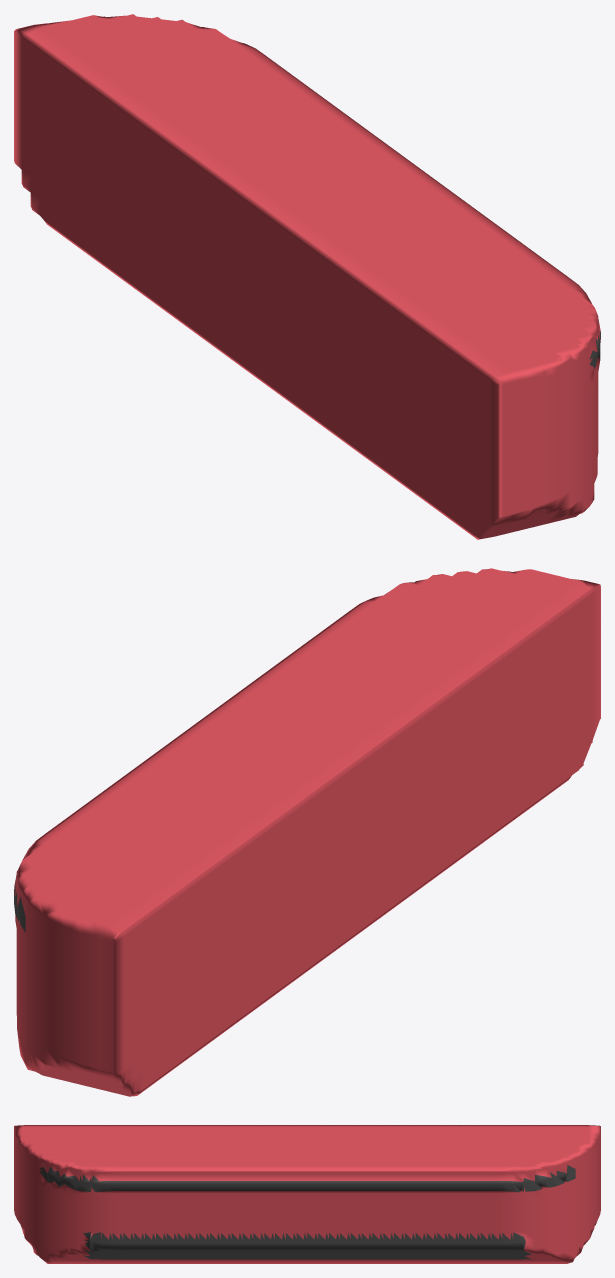
The model's file is bumper_front.glb.
3 views of the same model, one above another, from view 1: azimuth 30°, elevation 25°; view 2: azimuth 150°, elevation 25°; view 3: azimuth 270°, elevation 25° (orthographic). The views are drawn at different scales.
Parts seen in each view (by area): view 1: bumper_front; view 2: bumper_front; view 3: bumper_front.
Boxes of the visible parts, <box> form: bumper_front: <box>14,14,600,539</box>; bumper_front: <box>14,568,600,1096</box>; bumper_front: <box>14,1125,600,1263</box>.
Bounding box in the file's own units: 3.42 × 3.62 × 17.64.
